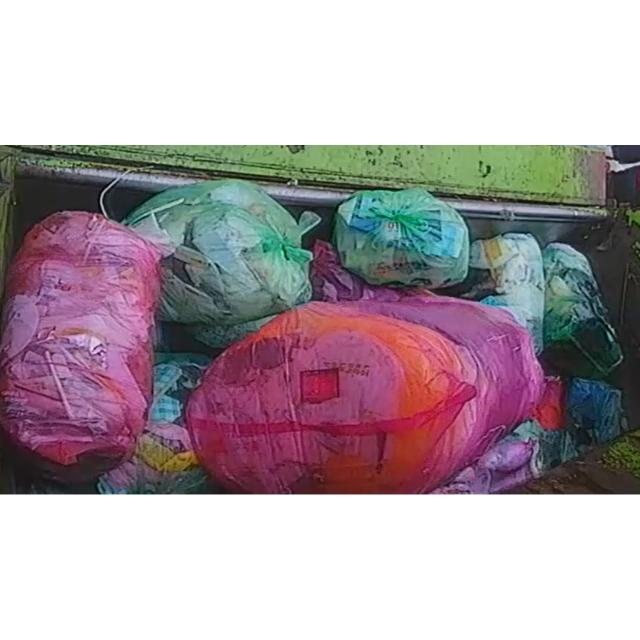general_trashbag: (122, 180, 320, 324), (98, 354, 211, 495), (334, 189, 469, 288), (542, 242, 624, 378), (460, 234, 545, 353)
other_trashbag: (186, 294, 544, 494), (0, 211, 160, 482)
